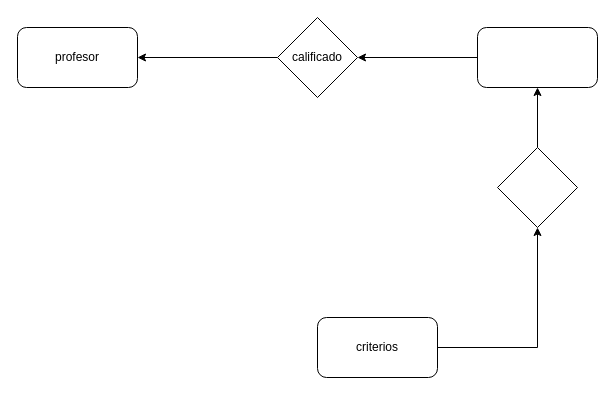
Some shapes in this 615 by 395 pixel diagram are drawn without their labels. Each missing label, with the box of its shape:
Notas: (476, 26, 598, 88)
tiene: (496, 146, 578, 228)
